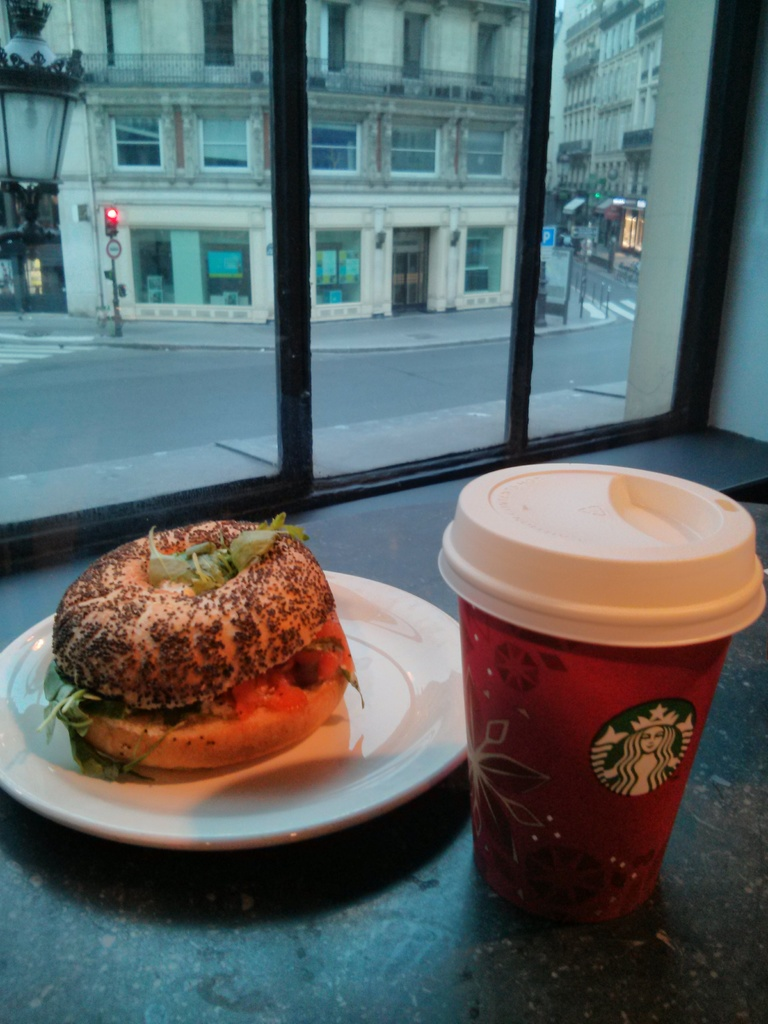Hamburger: (32, 516, 366, 778)
